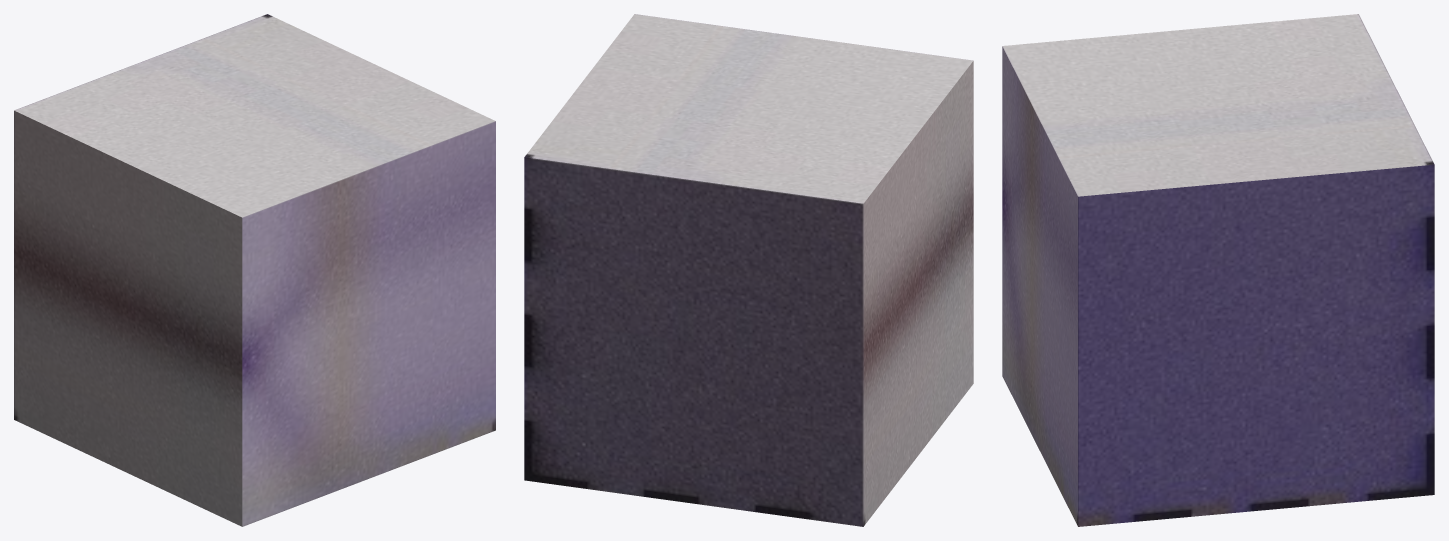
Rendered from threed_cube.glb.
The picture shows the model from 3 angles, left to right: view 1: azimuth 30°, elevation 25°; view 2: azimuth 150°, elevation 25°; view 3: azimuth 270°, elevation 25°; orthographic projection. The views are drawn at different scales.
Visible parts, largest first — view 1: threed_cube; view 2: threed_cube; view 3: threed_cube.
Part boxes in pixels (x1=…): threed_cube: x1=14, y1=14, x2=495, y2=526; threed_cube: x1=524, y1=14, x2=973, y2=526; threed_cube: x1=1002, y1=14, x2=1434, y2=526.
Bounding box in the file's own units: 0.9488 × 0.8 × 0.9488.
Materials: 1 (1 with a texture image).
